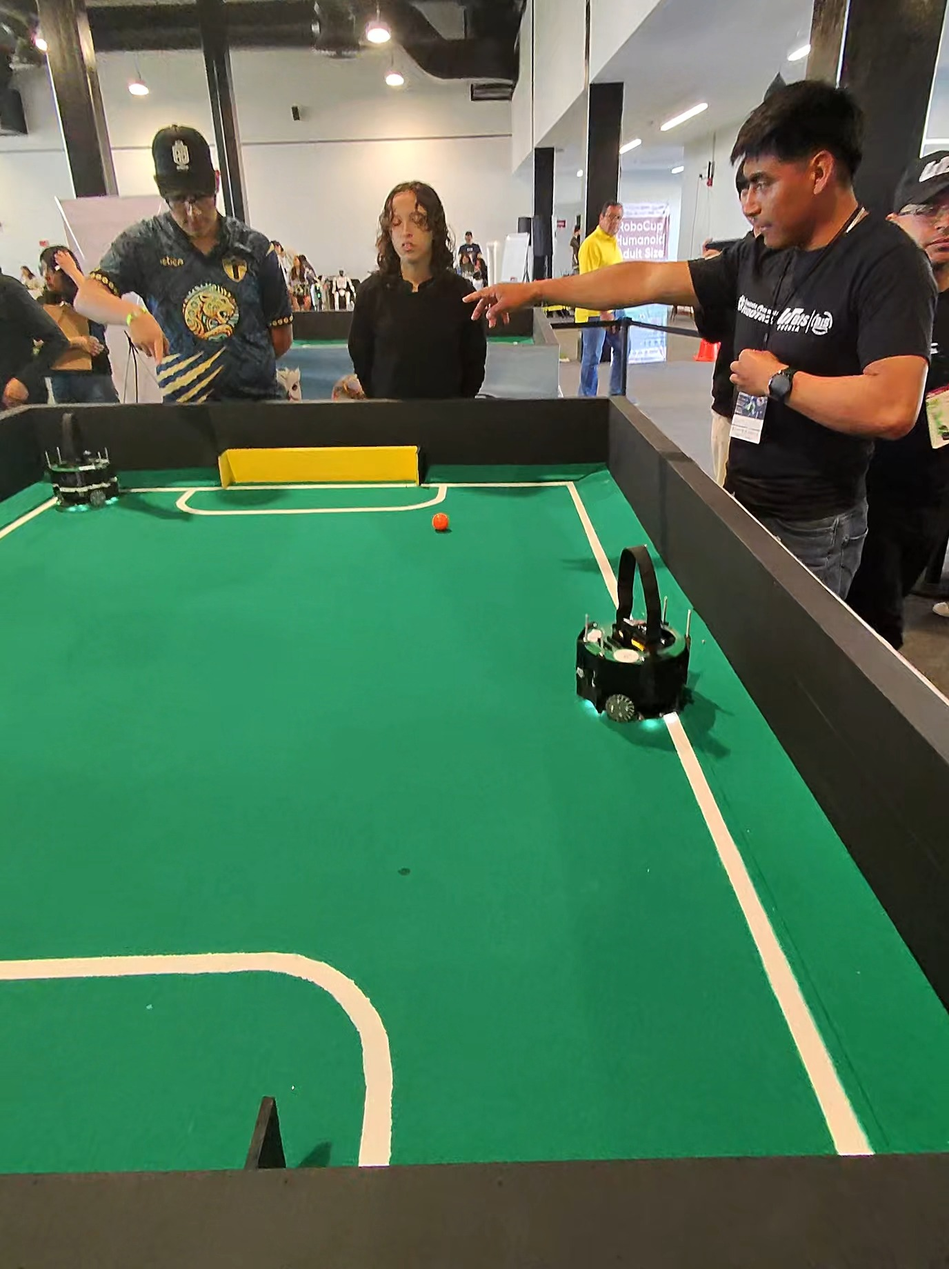Robot: (566, 527, 719, 771), (26, 401, 163, 548)
pelota: (414, 502, 471, 552)
